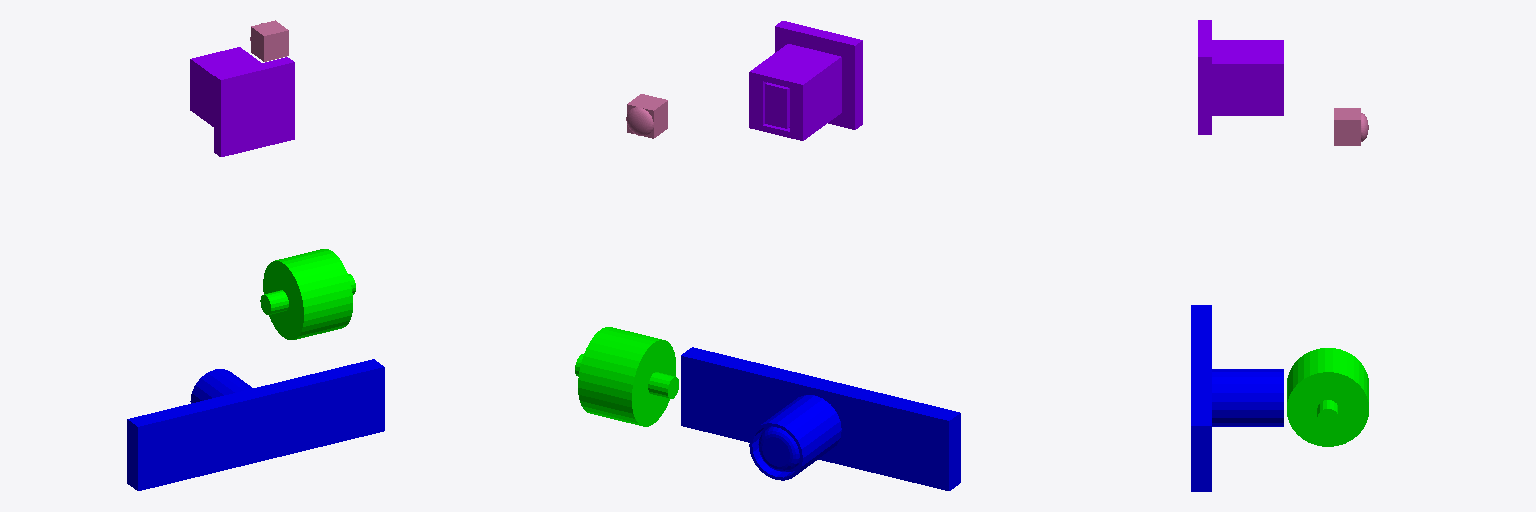
URDF robot description (full_assembly_robot_unit):
<?xml version="1.0" encoding="utf-8"?>
<robot name="full_assembly_robot_unit">

<link name="chassis_link">
  <inertial>
    <origin xyz="-1.7488e-05 -0.00532026 -0.00564779" rpy="0 0 0"/>
    <mass value="0.3"/>
    <inertia ixx="7.088e-05" ixy="0" ixz="0"
             iyy="1.714e-04" iyz="3.701e-07"
             izz="1.318e-04"/>
  </inertial>
  <visual>
    <geometry>
      <mesh filename="robots/meshes/chassis_link.STL"/>
    </geometry>
    <material name="dark_grey">
      <color rgba="0.2 0.2 0.2 1"/>
    </material>
  </visual>
  <collision>
    <geometry>
      <mesh filename="robots/meshes/chassis_link_vhacd.obj"/>
    </geometry>
  </collision>
</link>

<link name="left_wheel_link">
  <inertial>
    <origin xyz="-0.004 0 0" rpy="0 0 0"/>
    <mass value="0.005"/>
    <inertia ixx="7.5e-08" ixy="0" ixz="0"
             iyy="7.5e-08" iyz="0"
             izz="7.5e-08"/>
  </inertial>
  <visual>
    <geometry>
      <mesh filename="robots/meshes/left_wheel_link.STL"/>
    </geometry>
    <material name="green">
      <color rgba="0.0 1.0 0.0 1"/>
    </material>
  </visual>
  <collision>
    <origin xyz="0.004 0 0" rpy="0 1.570796 0"/>
    <geometry>
      <!-- Replaced mesh with cylinder for smoother physics. Adjust radius and length if necessary to match visual -->
      <!-- <cylinder radius="0.00575" length="0.008"/> -->
      <cylinder radius="0.00575" length="0.001"/>
    </geometry>
    <surface>
      <friction>
        <!-- <ode mu="1.0" mu2="1.0"/> -->
        <ode mu="2.0" mu2="2.0"/>
      </friction>
    </surface>
  </collision>
</link>

<joint name="left_wheel_joint" type="continuous">
  <origin xyz="0.02264 0.0061 -0.02193" rpy="0 0 0"/>
  <parent link="chassis_link"/>
  <child link="left_wheel_link"/>
  <axis xyz="-1 0 0"/>
</joint>

<link name="right_wheel_link">
  <inertial>
    <origin xyz="-0.004 0 0" rpy="0 0 0"/>
    <mass value="0.005"/>
    <inertia ixx="7.5e-08" ixy="0" ixz="0"
             iyy="7.5e-08" iyz="0"
             izz="7.5e-08"/>
  </inertial>
  <visual>
    <geometry>
      <mesh filename="robots/meshes/right_wheel_link.STL"/>
    </geometry>
    <material name="red">
      <color rgba="1.0 0.0 0.0 1"/>
    </material>
  </visual>
  <collision>
    <origin xyz="-0.004 0 0" rpy="0 1.570796 0"/>
    <geometry>
      <!-- Replaced mesh with cylinder for smoother physics. Adjust radius and length if necessary to match visual -->
      <!-- <cylinder radius="0.00575" length="0.008"/> -->
      <cylinder radius="0.00575" length="0.001"/>
    </geometry>
    <surface>
      <friction>
        <!-- <ode mu="1.0" mu2="1.0"/> -->
        <ode mu="2.0" mu2="2.0"/>
      </friction>
    </surface>
  </collision>
</link>

<joint name="right_wheel_joint" type="continuous">
  <origin xyz="-0.02264 0.0061 -0.02193" rpy="3.1416 0 3.1416"/>
  <parent link="chassis_link"/>
  <child link="right_wheel_link"/>
  <axis xyz="1 0 0"/>
</joint>

<link name="UV_LED_link">
  <visual>
    <geometry>
      <mesh filename="robots/meshes/UV_LED_link.STL"/>
    </geometry>
    <material name="purple">
      <color rgba="0.6 0.0 1.0 1"/>
    </material>
  </visual>
</link>

<joint name="UV_LED_joint" type="fixed">
  <origin xyz="0 0 0.0183562" rpy="0 1.5708 0"/>
  <parent link="chassis_link"/>
  <child link="UV_LED_link"/>
</joint>

<link name="sensor_camera_link">
  <visual>
    <geometry>
      <mesh filename="robots/meshes/sensor_camera_link.STL"/>
    </geometry>
    <material name="blue">
      <color rgba="0.0 0.0 1.0 1"/>
    </material>
  </visual>
</link>

<joint name="sensor_camera_joint" type="fixed">
  <origin xyz="0 0 -0.03073" rpy="+1.5708 +1.5708 +1.5708"/>
  <parent link="chassis_link"/>
  <child link="sensor_camera_link"/>
</joint>

<link name="right_leg_link">
  <inertial>
    <origin xyz="0 0 0.0006" rpy="0 0 0" />
    <mass value="0.00002" />
    <inertia ixx="2.74e-11" ixy="0" ixz="0" iyy="2.74e-11" iyz="0" izz="4.66e-11" />
  </inertial>
  <visual>
    <geometry>
      <mesh filename="robots/meshes/right_leg_link.STL" />
    </geometry>
    <material name="leg_color"/>
  </visual>
  <collision>
    <geometry>
      <mesh filename="robots/meshes/right_leg_link.STL" />
    </geometry>
  </collision>
</link>

<joint name="right_leg_joint" type="fixed">
  <origin xyz="-0.014 0.0113 0.0173" rpy="-1.5708 0 3.1416" />
  <parent link="chassis_link" />
  <child link="right_leg_link" />
</joint>

<link name="left_leg_link">
  <inertial>
    <origin xyz="0 0 0.0006" rpy="0 0 0" />
    <mass value="0.00002" />
    <inertia ixx="2.74e-11" ixy="0" ixz="0" iyy="2.74e-11" iyz="0" izz="4.66e-11" />
  </inertial>
  <visual>
    <geometry>
      <mesh filename="robots/meshes/left_leg_link.STL" />
    </geometry>
    <material name="leg_color"/>
  </visual>
  <collision>
    <geometry>
      <mesh filename="robots/meshes/left_leg_link.STL" />
    </geometry>
  </collision>
</link>

<joint name="left_leg_joint" type="fixed">
  <origin xyz="0.014 0.0113 0.0173" rpy="-1.5708 0 3.1416" />
  <parent link="chassis_link" />
  <child link="left_leg_link" />
</joint>

</robot>

--- Render facts (derived) ---
3 views of the same robot in one strip: view 1: azimuth 30°, elevation 25°; view 2: azimuth 150°, elevation 25°; view 3: azimuth 270°, elevation 25° (orthographic).
Robot: full_assembly_robot_unit — 7 links, 6 joints (2 continuous, 4 fixed); root link chassis_link; default pose: all joints at 0.
Links seen in each view (by area): view 1: sensor_camera_link, UV_LED_link, left_wheel_link, left_leg_link; view 2: sensor_camera_link, UV_LED_link, left_wheel_link, left_leg_link; view 3: sensor_camera_link, UV_LED_link, left_wheel_link, left_leg_link.
Boxes of the visible links, left/top/right/bottom form: sensor_camera_link: left=127, top=359, right=384, bottom=490; UV_LED_link: left=190, top=47, right=294, bottom=156; left_wheel_link: left=260, top=249, right=355, bottom=339; left_leg_link: left=250, top=20, right=288, bottom=61; sensor_camera_link: left=681, top=347, right=960, bottom=490; UV_LED_link: left=749, top=21, right=862, bottom=140; left_wheel_link: left=575, top=327, right=678, bottom=426; left_leg_link: left=626, top=94, right=667, bottom=138; sensor_camera_link: left=1191, top=305, right=1283, bottom=491; UV_LED_link: left=1198, top=20, right=1283, bottom=134; left_wheel_link: left=1287, top=348, right=1368, bottom=446; left_leg_link: left=1334, top=108, right=1368, bottom=145.
Bounding box of the posed robot: 0.0455 × 0.0248 × 0.0601 m (x, y, z).
4 mesh visuals loaded from 7 distinct referenced files (4 binary STL); not drawn: 3 (reference not matched to a file when rendering).
